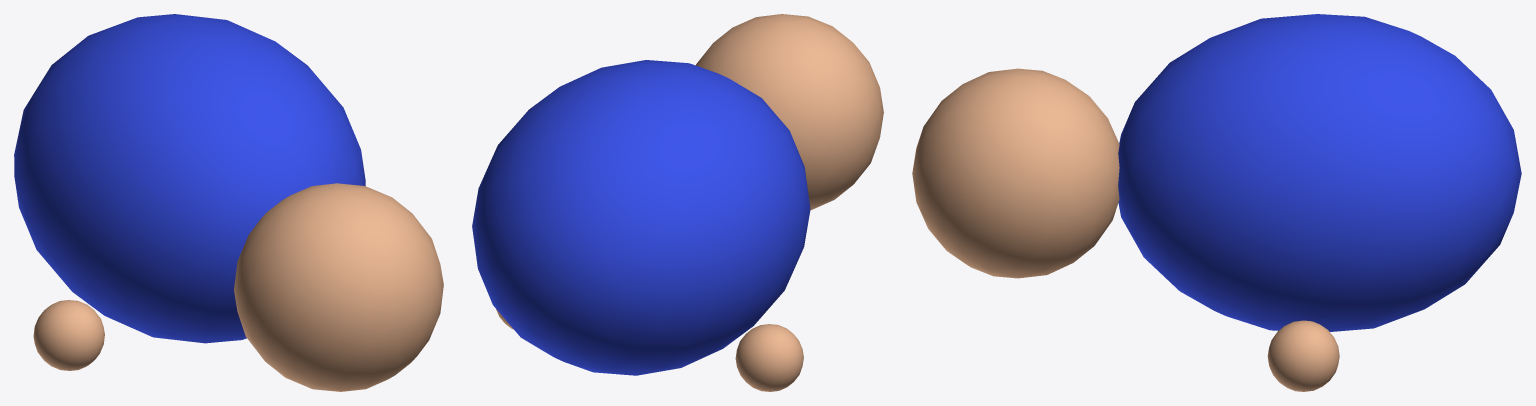
The model's file is worker_blue.glb.
3 views of the same model, side by side, from view 1: azimuth 30°, elevation 25°; view 2: azimuth 150°, elevation 25°; view 3: azimuth 270°, elevation 25° (orthographic). The views are drawn at different scales.
Visible parts, largest first — view 1: Icosphere.008, Icosphere.007, Icosphere.006; view 2: Icosphere.008, Icosphere.007, Icosphere.006; view 3: Icosphere.008, Icosphere.007, Icosphere.005.
Boxes of the visible parts, x1,y1,x2,y2 form: Icosphere.008: (14,14,365,343); Icosphere.007: (234,183,443,391); Icosphere.006: (33,300,104,370); Icosphere.008: (472,60,810,375); Icosphere.007: (695,14,883,210); Icosphere.006: (735,324,803,391); Icosphere.008: (1118,14,1521,331); Icosphere.007: (912,68,1119,278); Icosphere.005: (1267,320,1339,391).
Bounding box in the file's own units: 0.2668 × 0.2405 × 0.4449.
